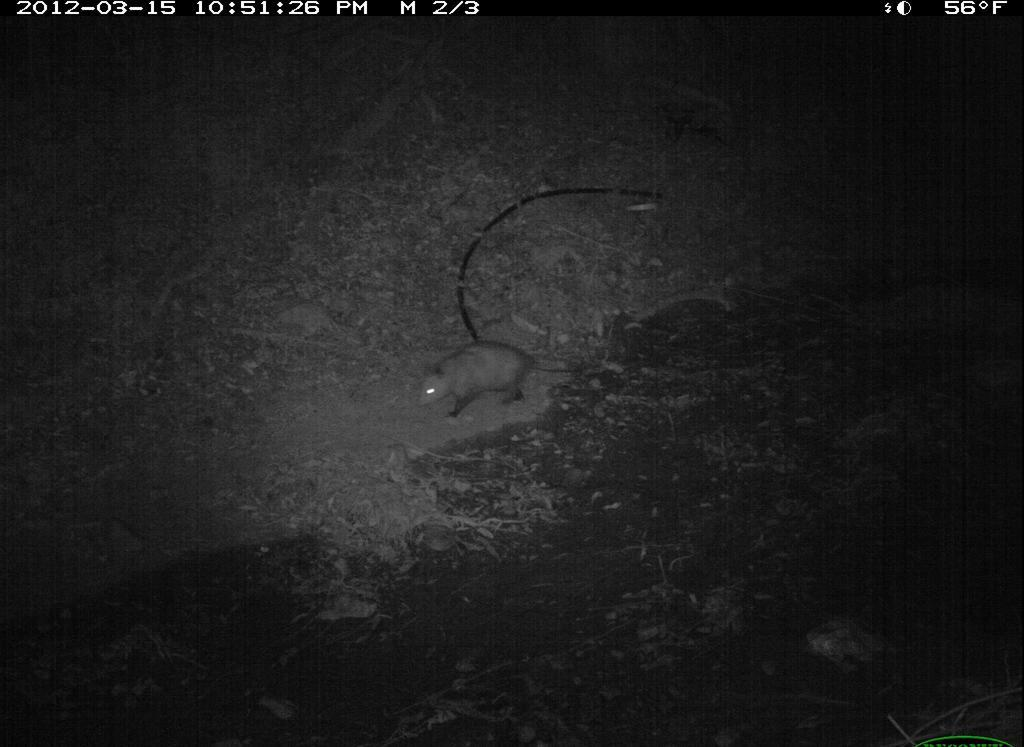opossum: (416, 330, 603, 425)
